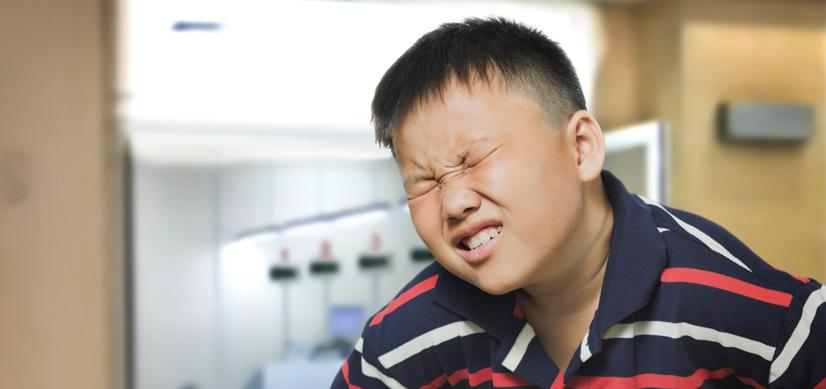pain: (399, 136, 512, 205)
